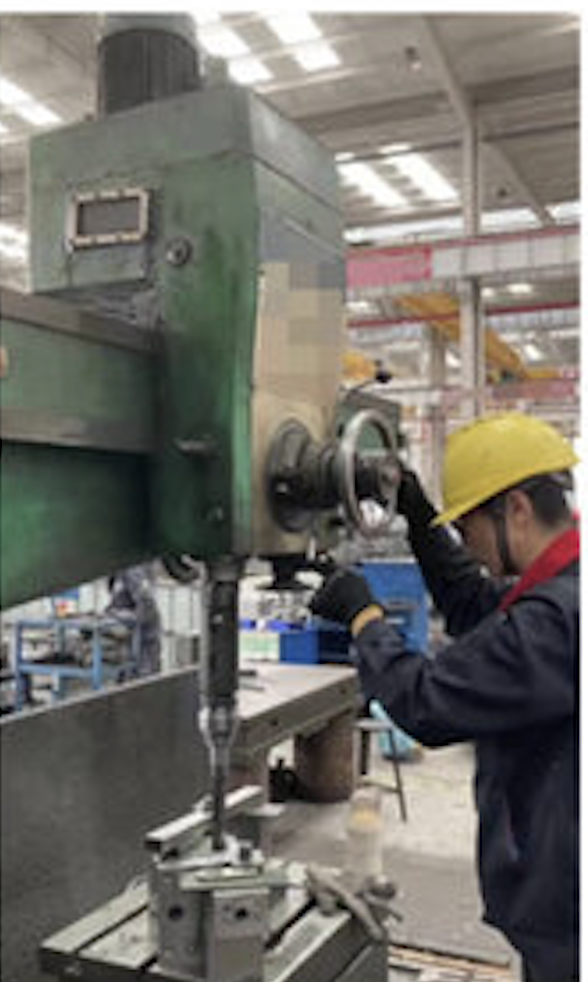gloves: (288, 540, 403, 640), (375, 455, 445, 542)
